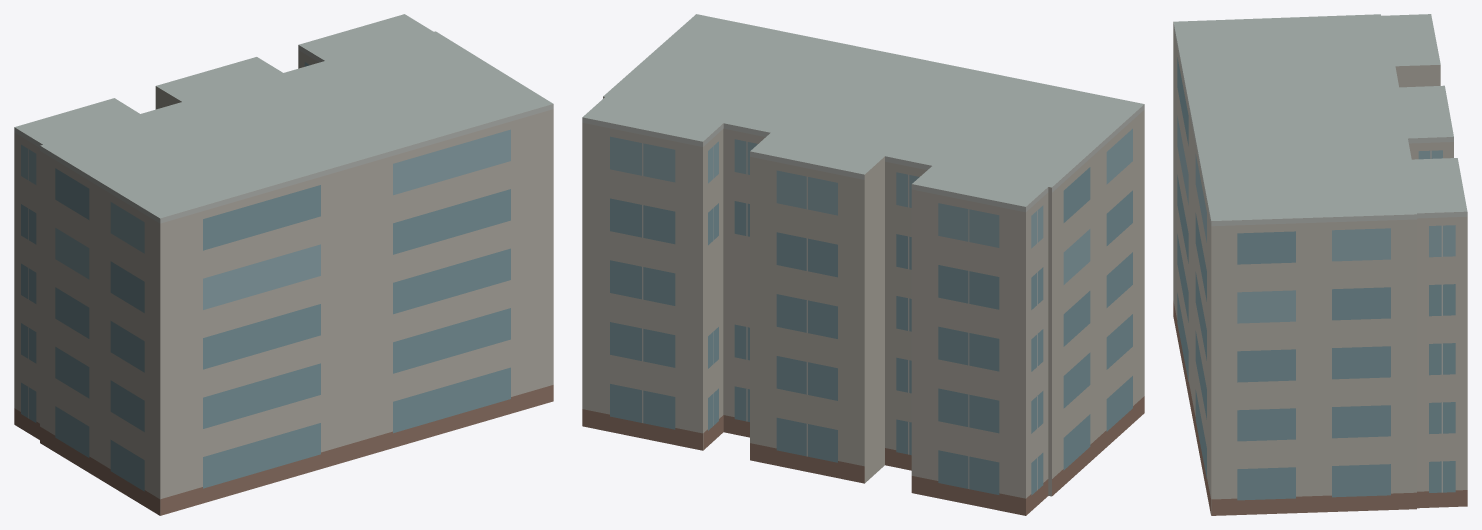
File: survey-upis-32742085.glb
3 views of the same model, side by side, from view 1: azimuth 30°, elevation 25°; view 2: azimuth 150°, elevation 25°; view 3: azimuth 270°, elevation 25° (orthographic). The views are drawn at different scales.
Visible parts, largest first — view 1: survey-upis-32742085.tmp; view 2: survey-upis-32742085.tmp; view 3: survey-upis-32742085.tmp.
Part boxes in pixels (x1,y1,x2,y2): survey-upis-32742085.tmp: [14, 14, 553, 515]; survey-upis-32742085.tmp: [582, 14, 1144, 515]; survey-upis-32742085.tmp: [1173, 14, 1467, 515].
Bounding box in the file's own units: 21.11 × 14 × 12.67.
